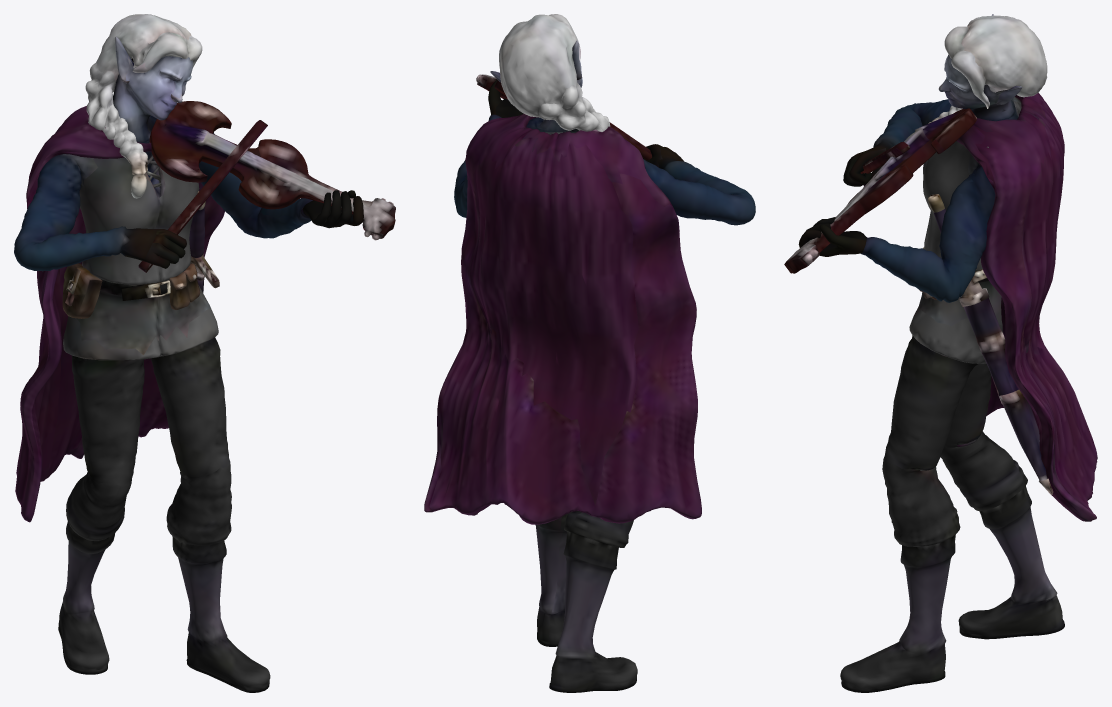
File: MZ4250 - Elf Female Bard_2.glb
The picture shows the model from 3 angles, left to right: view 1: azimuth 30°, elevation 25°; view 2: azimuth 150°, elevation 25°; view 3: azimuth 270°, elevation 25°; orthographic projection. The views are drawn at different scales.
Parts seen in each view (by area): view 1: Shortsword in sheath 2.001; view 2: Shortsword in sheath 2.001; view 3: Shortsword in sheath 2.001.
Boxes of the visible parts, <box> form: Shortsword in sheath 2.001: <box>14,14,395,692</box>; Shortsword in sheath 2.001: <box>424,14,755,692</box>; Shortsword in sheath 2.001: <box>784,14,1097,692</box>.
Size of the model in its own units: 48.51 by 90.65 by 39.79.
Materials: 1 (1 with a texture image).
